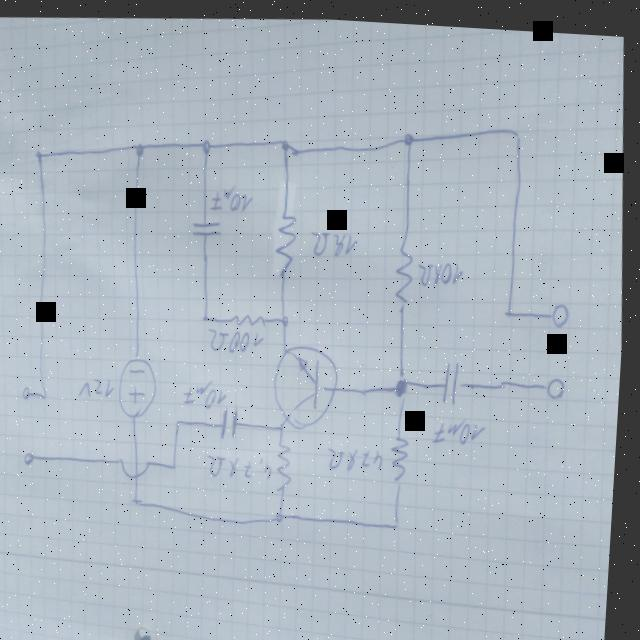capacitor: (444, 351, 466, 400), (223, 401, 245, 439), (192, 215, 226, 236)
crossover: (121, 452, 157, 479)
junction: (396, 366, 415, 394), (400, 122, 418, 145), (279, 130, 295, 149), (512, 119, 526, 138), (199, 136, 214, 153), (135, 489, 149, 507), (202, 305, 216, 323), (505, 294, 518, 313), (394, 511, 408, 527), (278, 505, 292, 521), (133, 138, 146, 155), (173, 454, 185, 472), (282, 307, 294, 324), (176, 413, 189, 427), (35, 147, 47, 160), (44, 387, 54, 400), (280, 418, 290, 428)
resistor: (273, 204, 304, 273), (393, 237, 420, 303), (392, 426, 417, 482), (277, 434, 301, 490), (234, 306, 272, 328)
source: (118, 352, 165, 418)
terminal: (553, 292, 575, 322), (547, 368, 572, 394), (27, 448, 41, 465), (26, 385, 37, 400)
text: (208, 445, 280, 480), (328, 438, 389, 472), (434, 408, 492, 441), (209, 321, 270, 352), (417, 252, 468, 286), (210, 179, 257, 213), (186, 375, 232, 408), (312, 224, 362, 254), (82, 374, 120, 399)
transistor: (272, 335, 349, 429)
